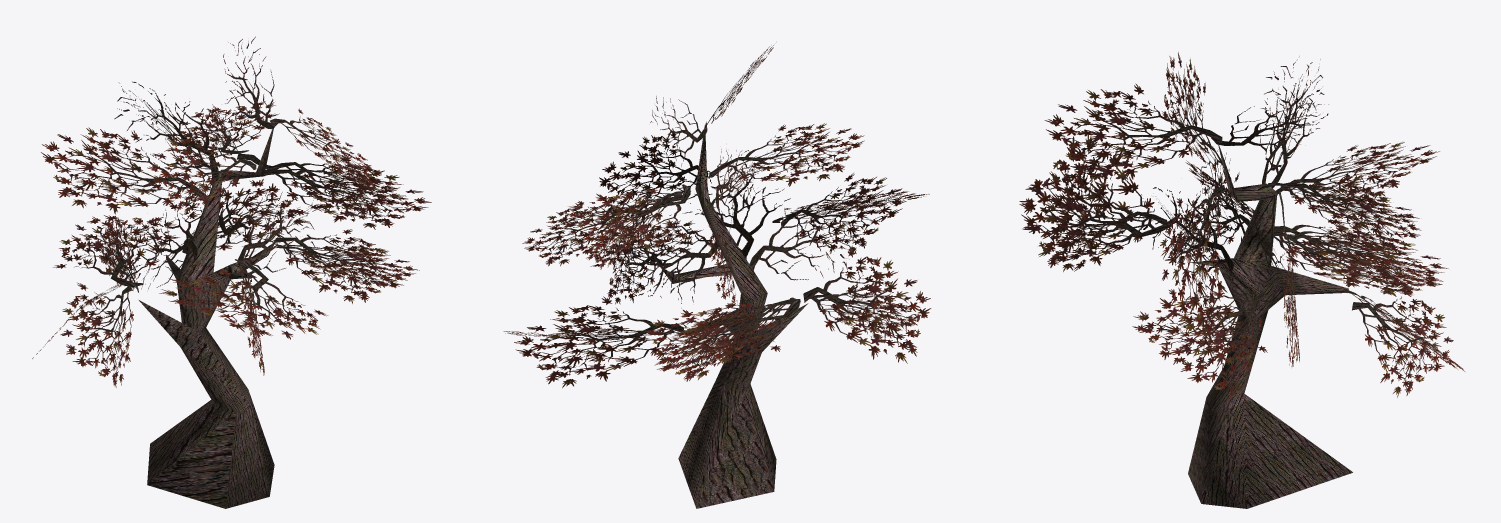
Rendered from decd_dath_blacktree_a1_l3.fbx.
3 views of the same model, side by side, from view 1: azimuth 30°, elevation 25°; view 2: azimuth 150°, elevation 25°; view 3: azimuth 270°, elevation 25° (orthographic). The views are drawn at different scales.
Parts seen in each view (by area): view 1: mesh_node; view 2: mesh_node; view 3: mesh_node.
Boxes of the visible parts, x1=… form: mesh_node: x1=32, y1=36, x2=431, y2=508; mesh_node: x1=503, y1=45, x2=931, y2=508; mesh_node: x1=1019, y1=52, x2=1464, y2=508.
Bounding box in the file's own units: 15.97 × 15.23 × 15.56.
